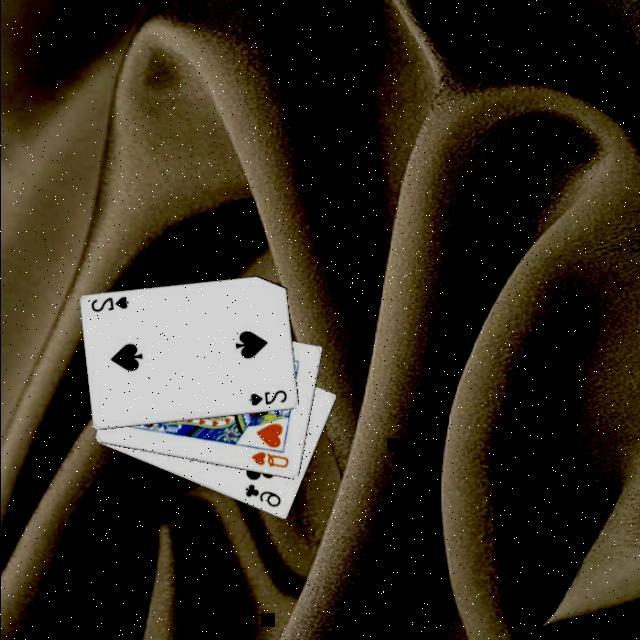2S: (86, 293, 131, 315), (244, 386, 288, 408)
9C: (240, 480, 283, 510)
QH: (246, 448, 290, 470)
